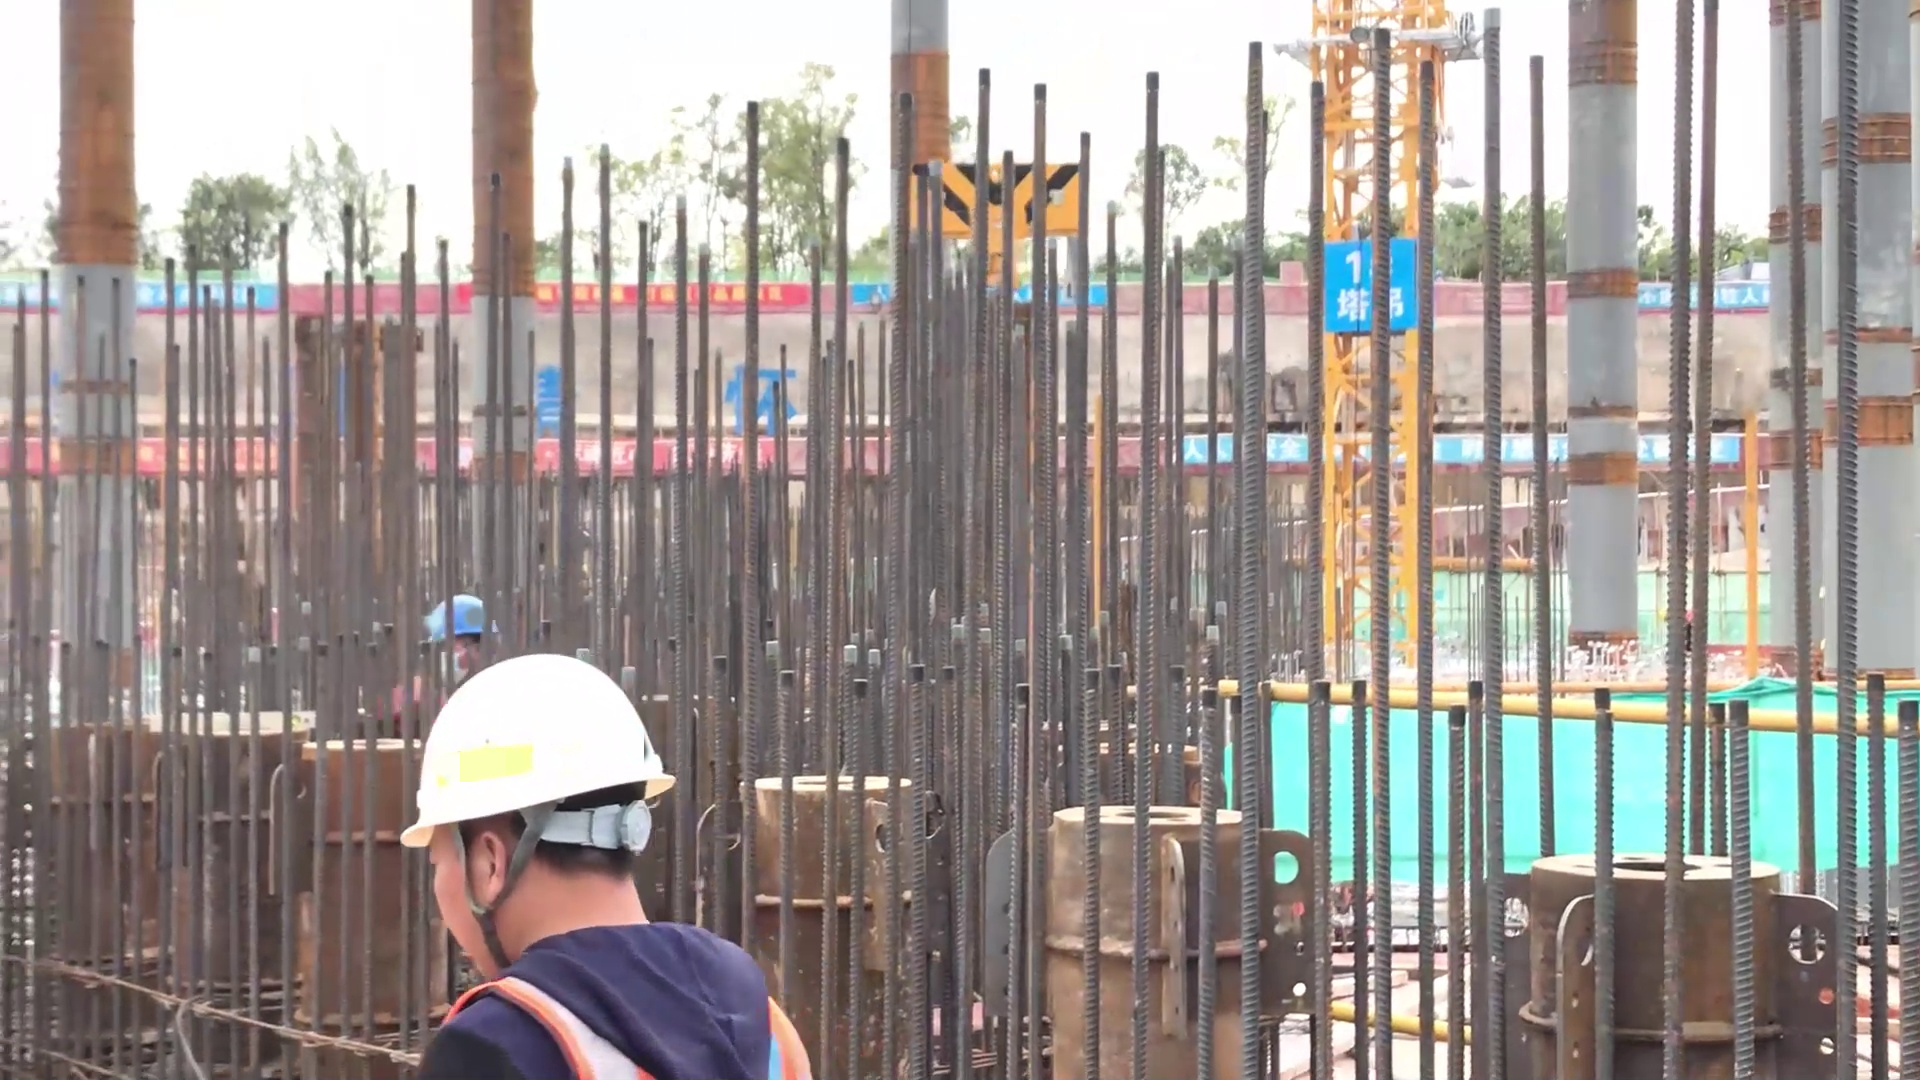helmet: (400, 644, 683, 859), (416, 591, 496, 662)
hook: (902, 148, 1089, 298)
person: (389, 647, 827, 1080), (416, 588, 506, 690)
vest: (442, 986, 815, 1080)
